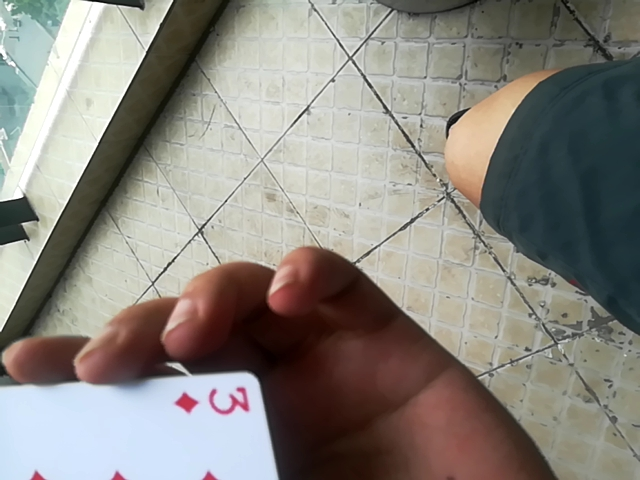fk 3: (7, 366, 284, 480)
